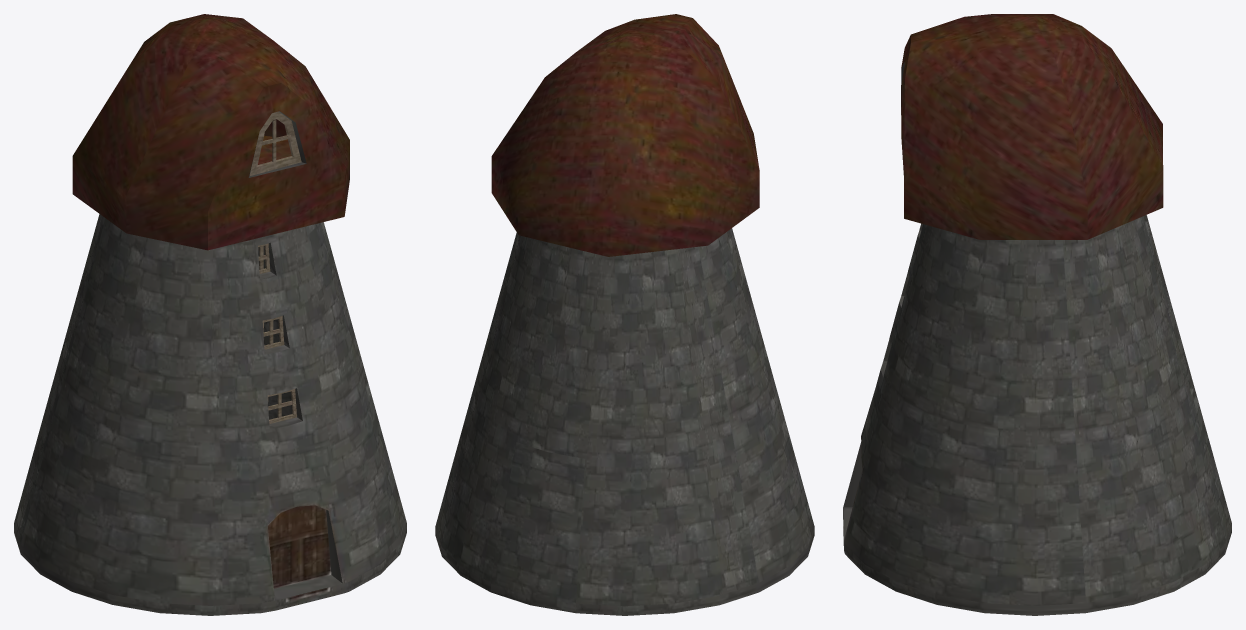
Rendered from windmill.glb.
3 renders of one model, left to right at view 1: azimuth 30°, elevation 25°; view 2: azimuth 150°, elevation 25°; view 3: azimuth 270°, elevation 25°, orthographic. The views are drawn at different scales.
Visible parts, largest first — view 1: prefab; view 2: prefab; view 3: prefab.
Part boxes in pixels (x1,y1,x2,y2): prefab: [14, 14, 406, 615]; prefab: [435, 14, 814, 615]; prefab: [843, 14, 1231, 615].
Size of the model in its own units: 7.59 by 10.96 by 7.5.
Materials: 1 (1 with a texture image).
